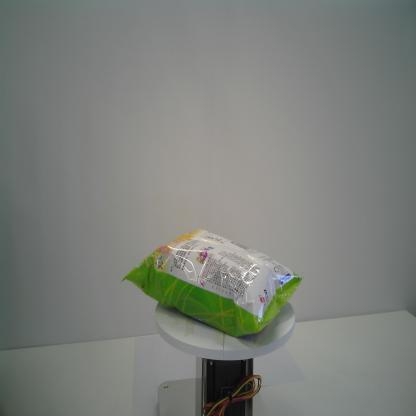Puffed Food: (118, 225, 307, 343)
